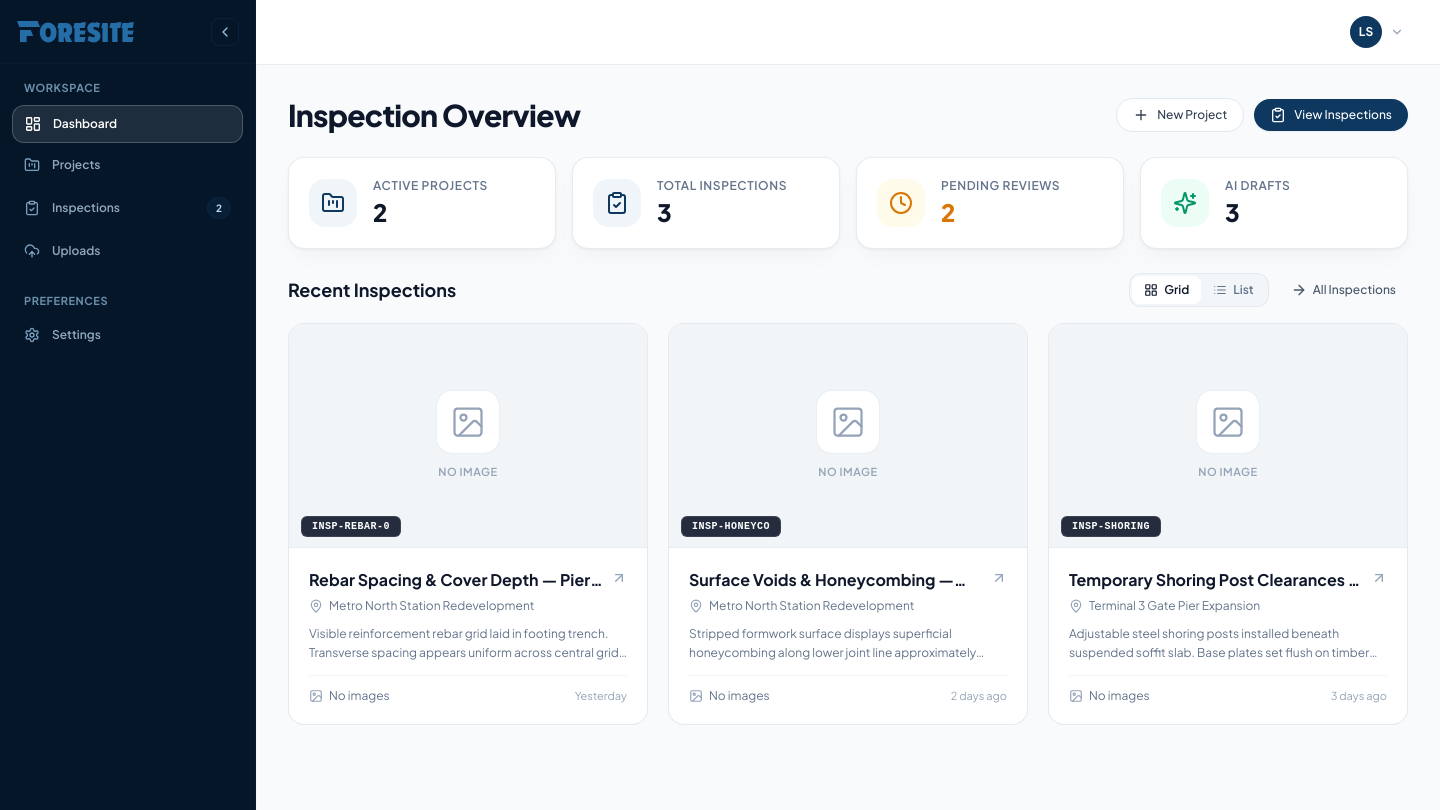
Scenario: ForeSite Application Shell Navigation › navigates back to Dashboard when Dashboard is clicked in sidebar
The image size is (1440, 810).
# Navigate away to projects
Click the button "Projects".
click(128, 164)  # box [12,146,243,182]
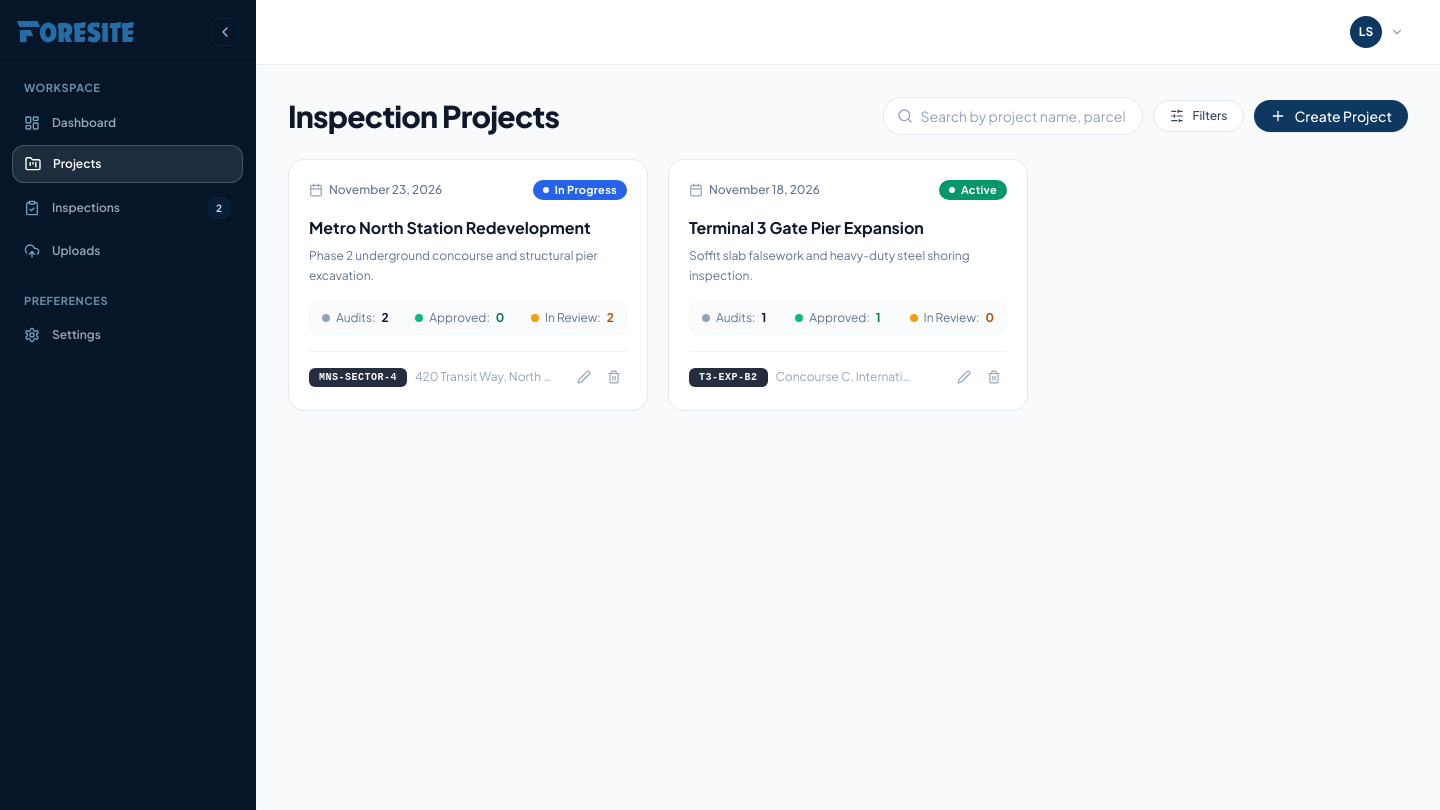
Expected: the heading "Inspection Projects" is shown, [288,98,559,134]
# Navigate back to Dashboard
Click the button "Dashboard".
click(128, 122)  # box [12,104,243,140]
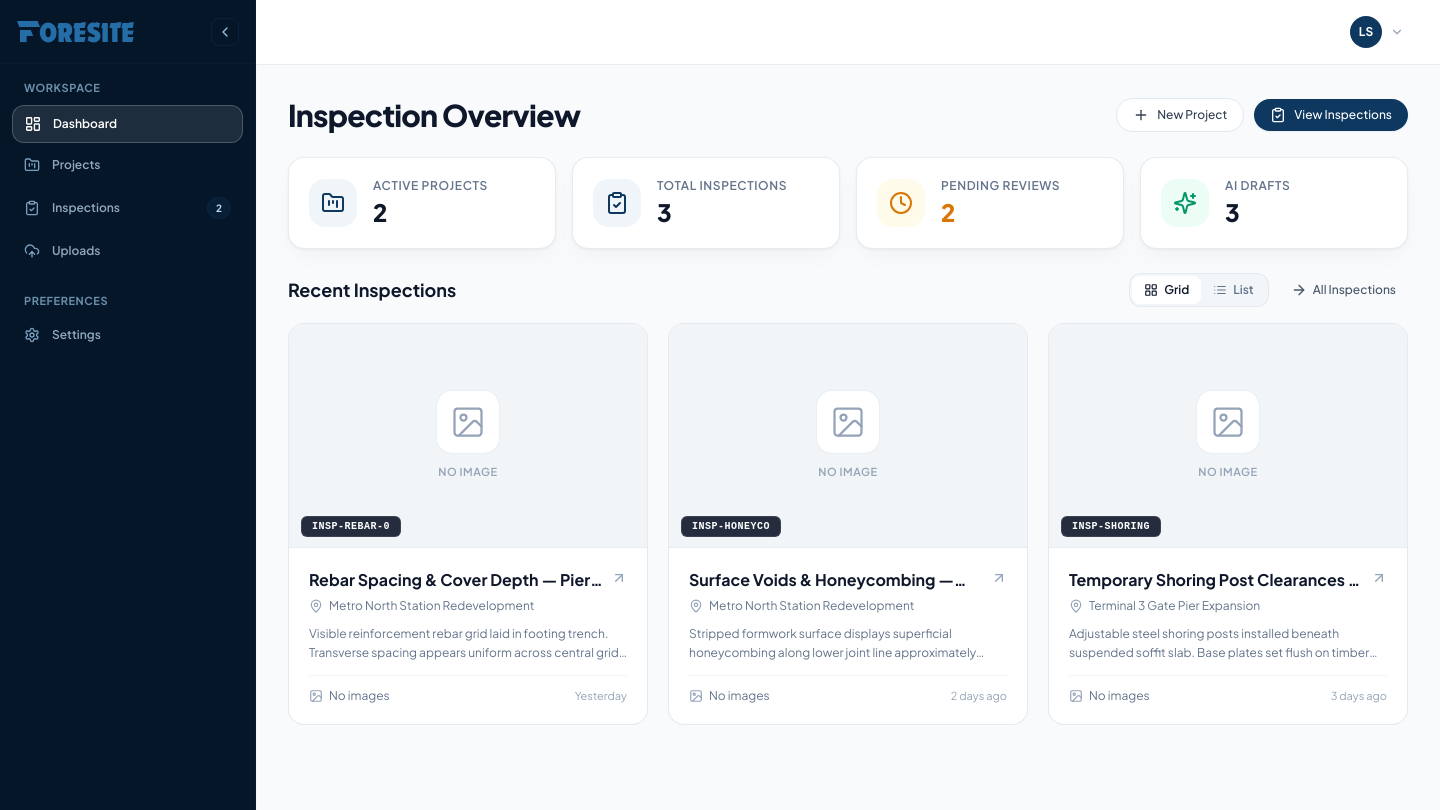
Expected: the heading "Inspection Overview" is shown, [288,97,580,133]
